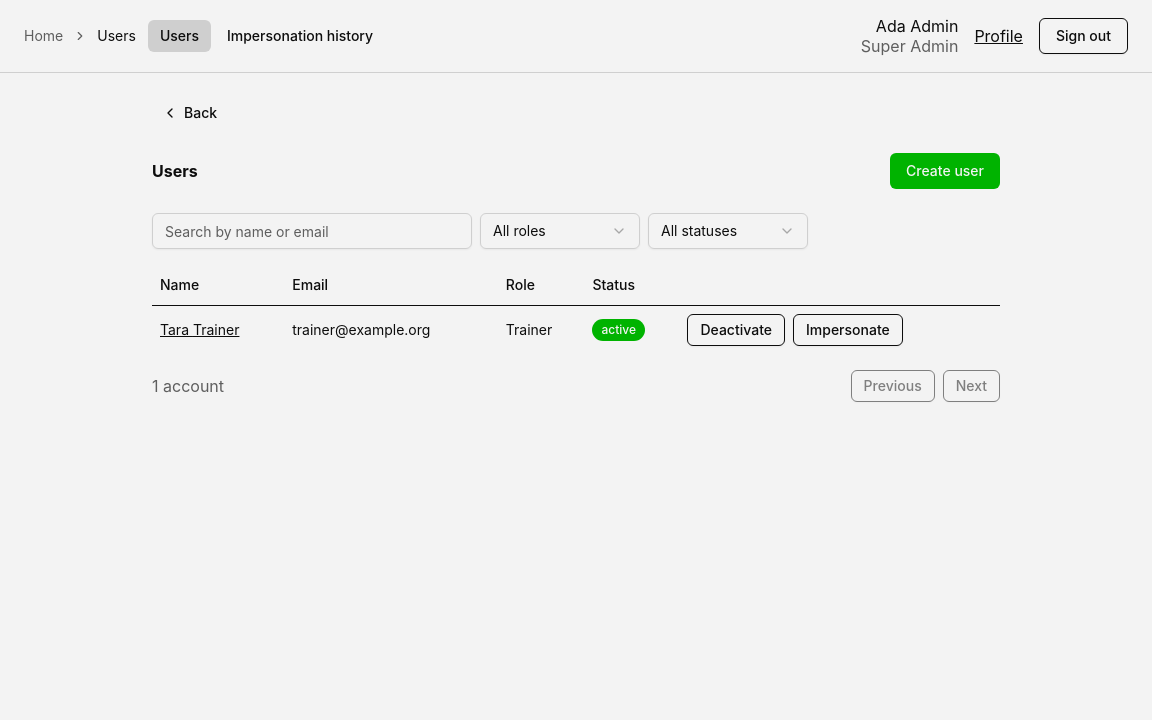
Test: the Impersonate row action › appears for an ordinary role and opens a confirmation naming the person and role
The image size is (1152, 720).
Expected: the table is shown, [152,265,1000,354]
Click the button "Impersonate".
click(848, 330)  # box [793,314,903,346]
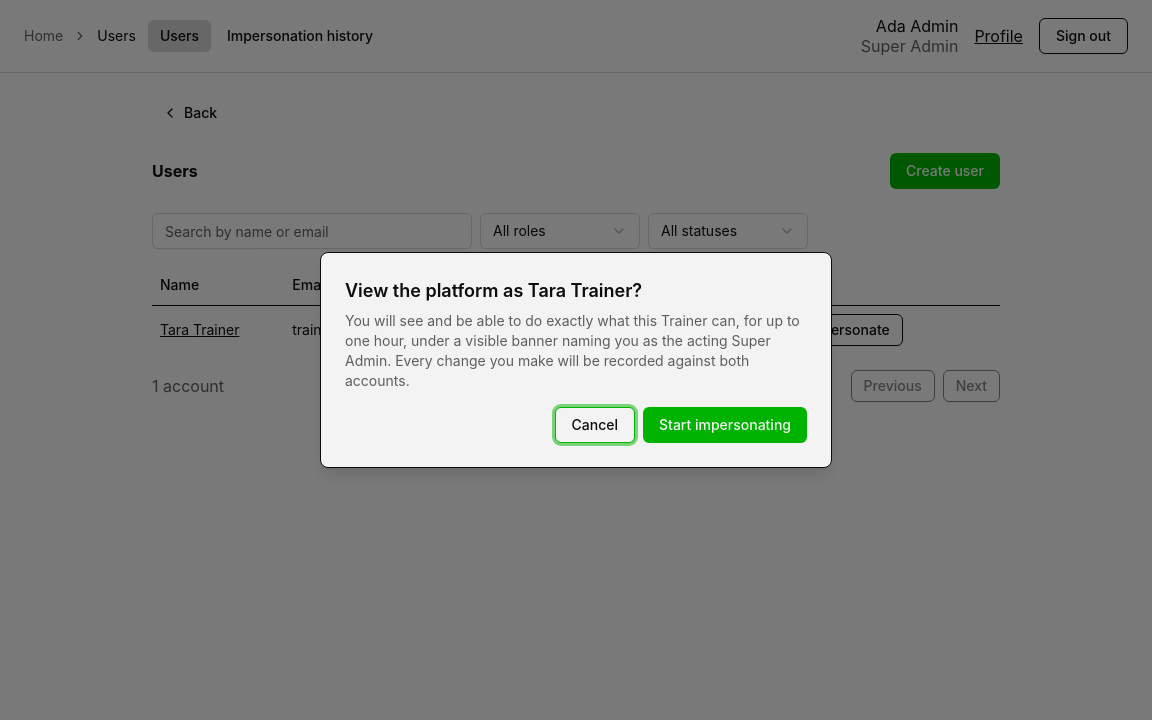
Result: the dialog shows "Tara" at [528,280,632,301]
Result: the dialog shows "Trainer" at [661,312,708,329]
